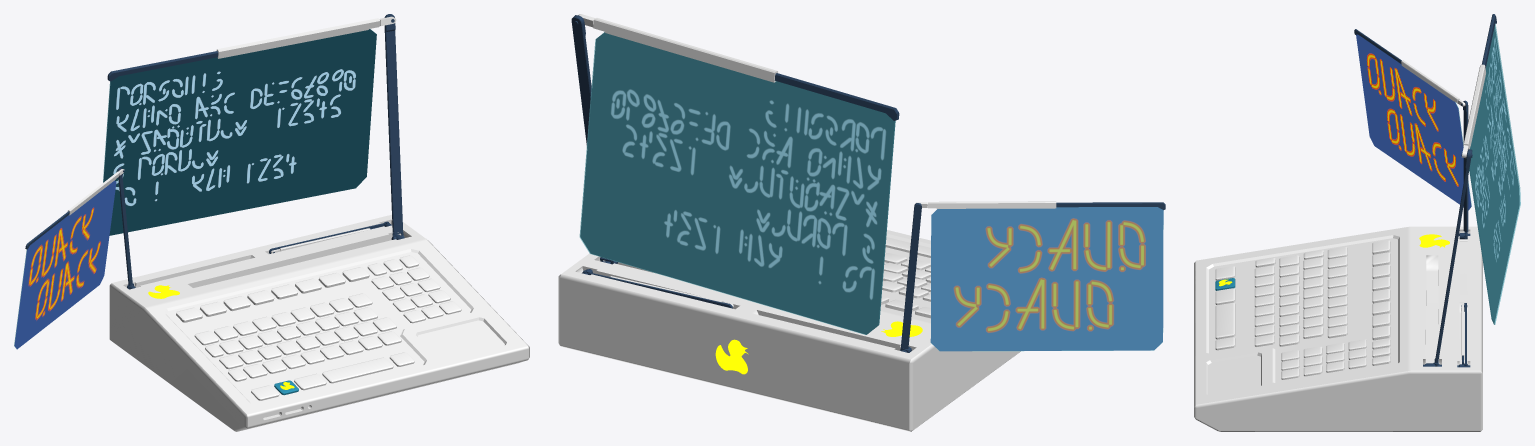
The model's file is Misc_Duckputer_B.glb.
3 views of the same model, side by side, from view 1: azimuth 30°, elevation 25°; view 2: azimuth 150°, elevation 25°; view 3: azimuth 270°, elevation 25° (orthographic). The views are drawn at different scales.
Parts seen in each view (by area): view 1: Misc_Duckputer_B.001; view 2: Misc_Duckputer_B.001; view 3: Misc_Duckputer_B.001.
Part boxes in pixels (x1,y1,x2,y2): Misc_Duckputer_B.001: [14, 14, 529, 431]; Misc_Duckputer_B.001: [558, 14, 1165, 431]; Misc_Duckputer_B.001: [1194, 14, 1520, 431].
Bounding box in the file's own units: 0.5011 × 0.2922 × 0.3112.
8 materials, 1 textured.
